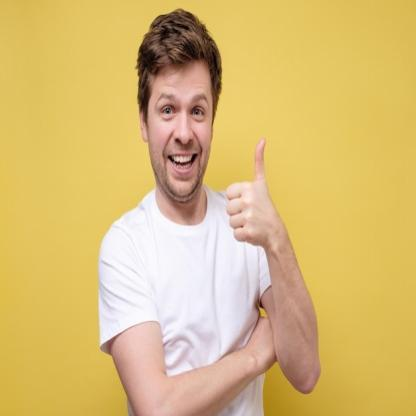thumb_up: (224, 135, 276, 251)
